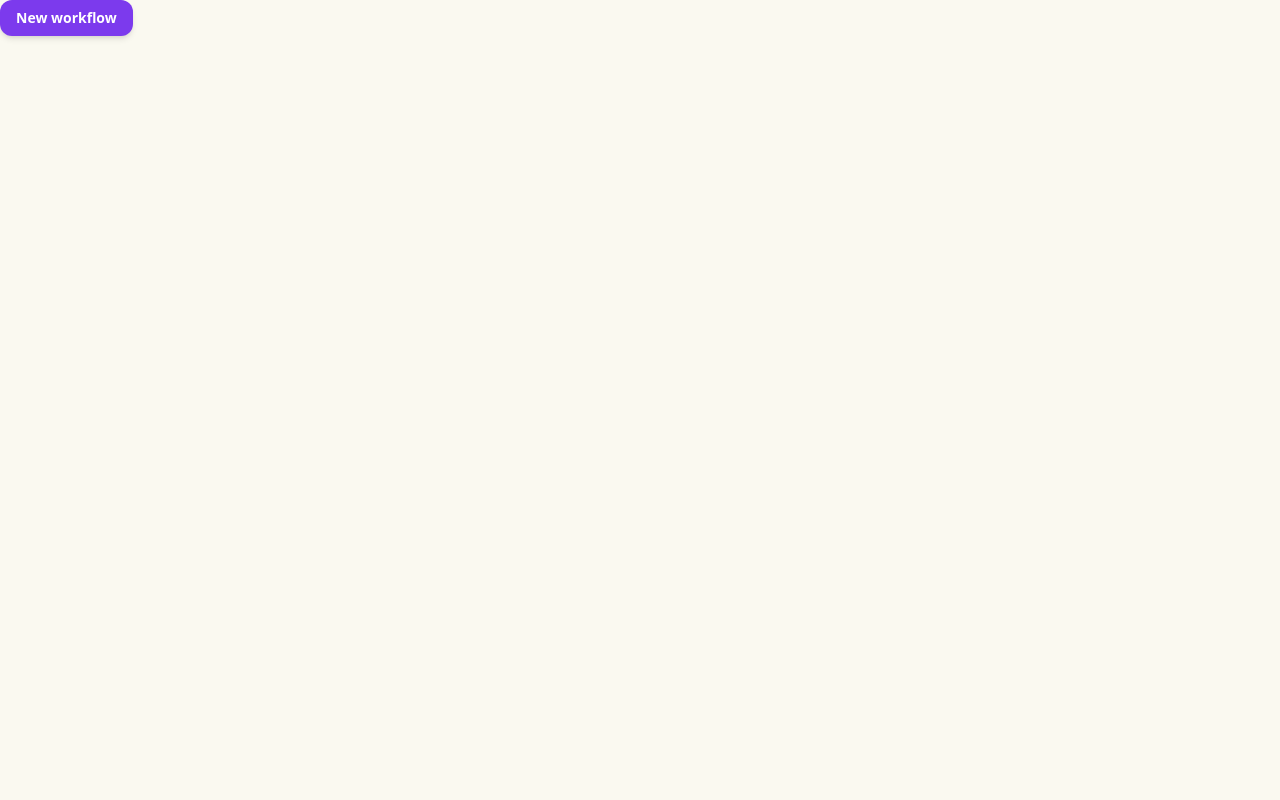
Scenario: CRM creation forms › submits typed data and closes after a successful API write
The width and height of the screenshot is (1280, 800).
Click the button "New workflow" at [66, 18], box [0, 0, 133, 36]
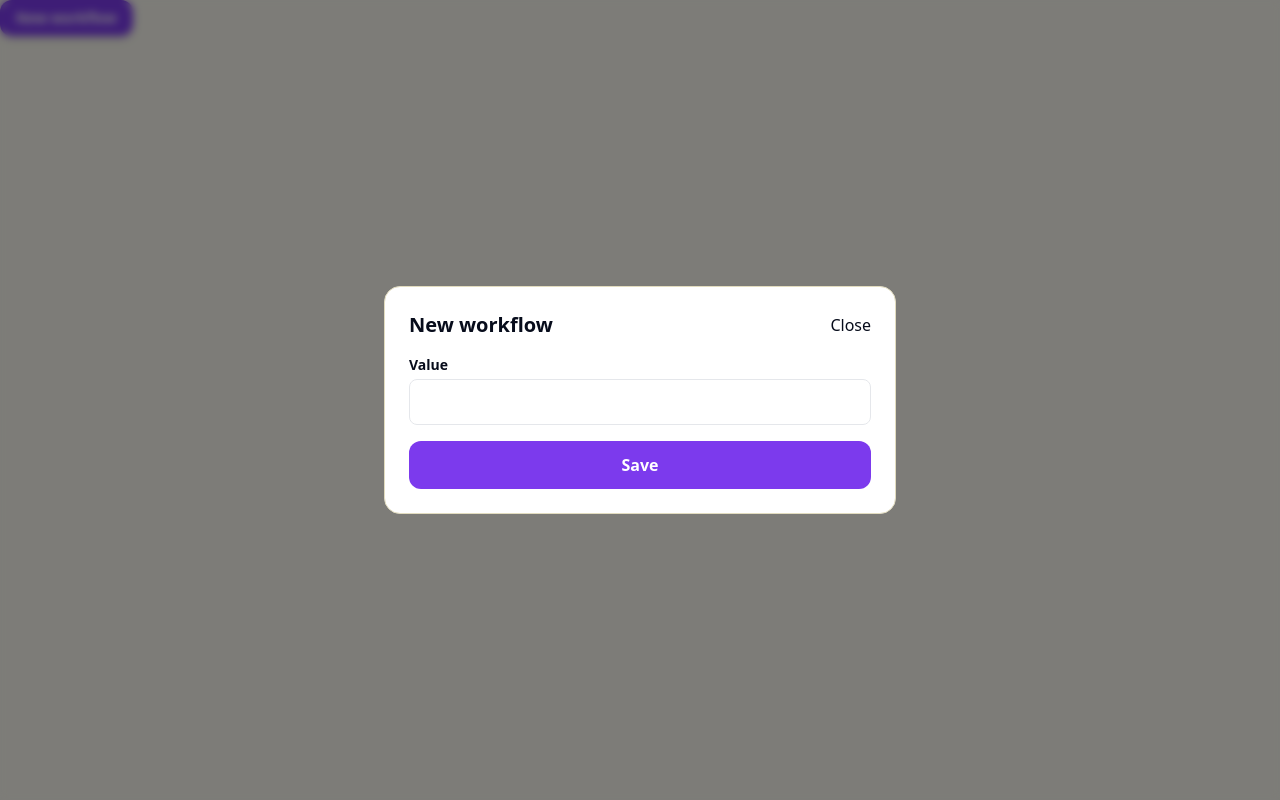
Type "1200" into the number field labelled "Value" at [640, 402], box [409, 379, 871, 425]
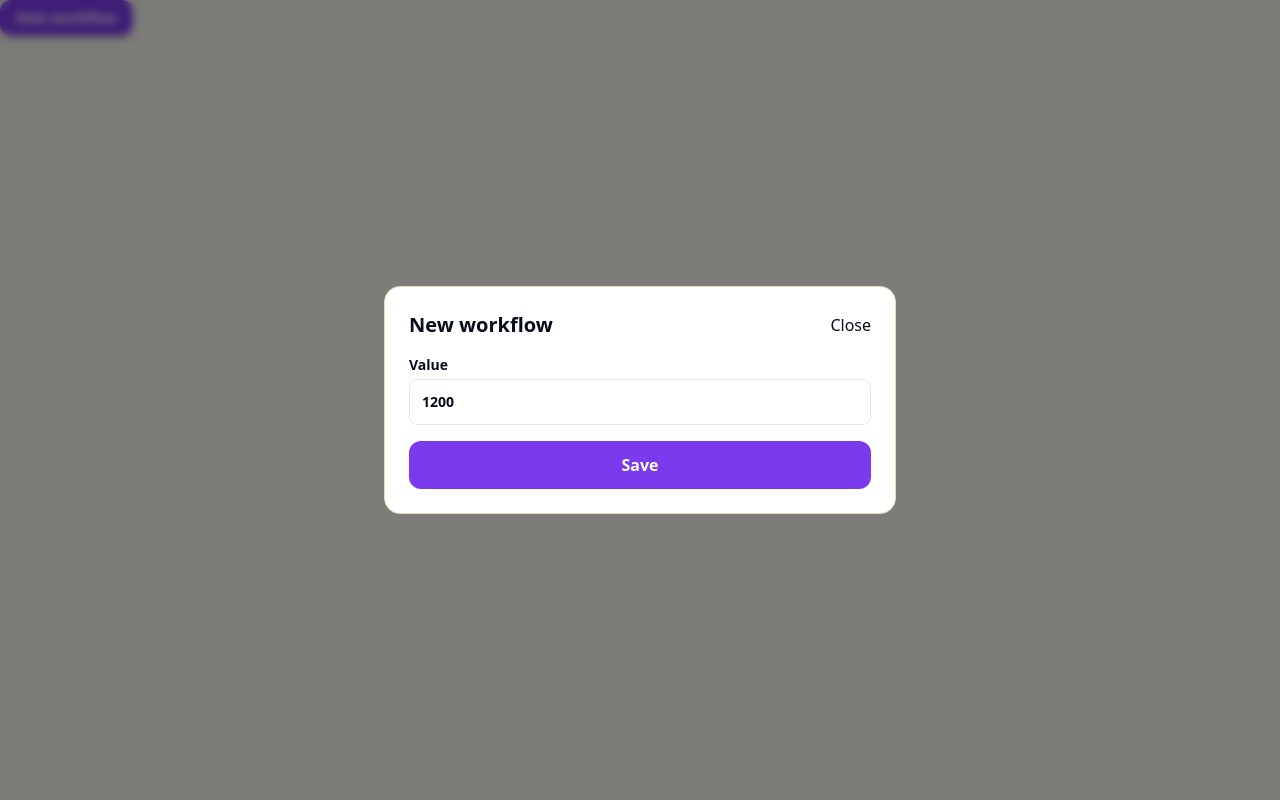
Submit the form, box [384, 286, 896, 514]
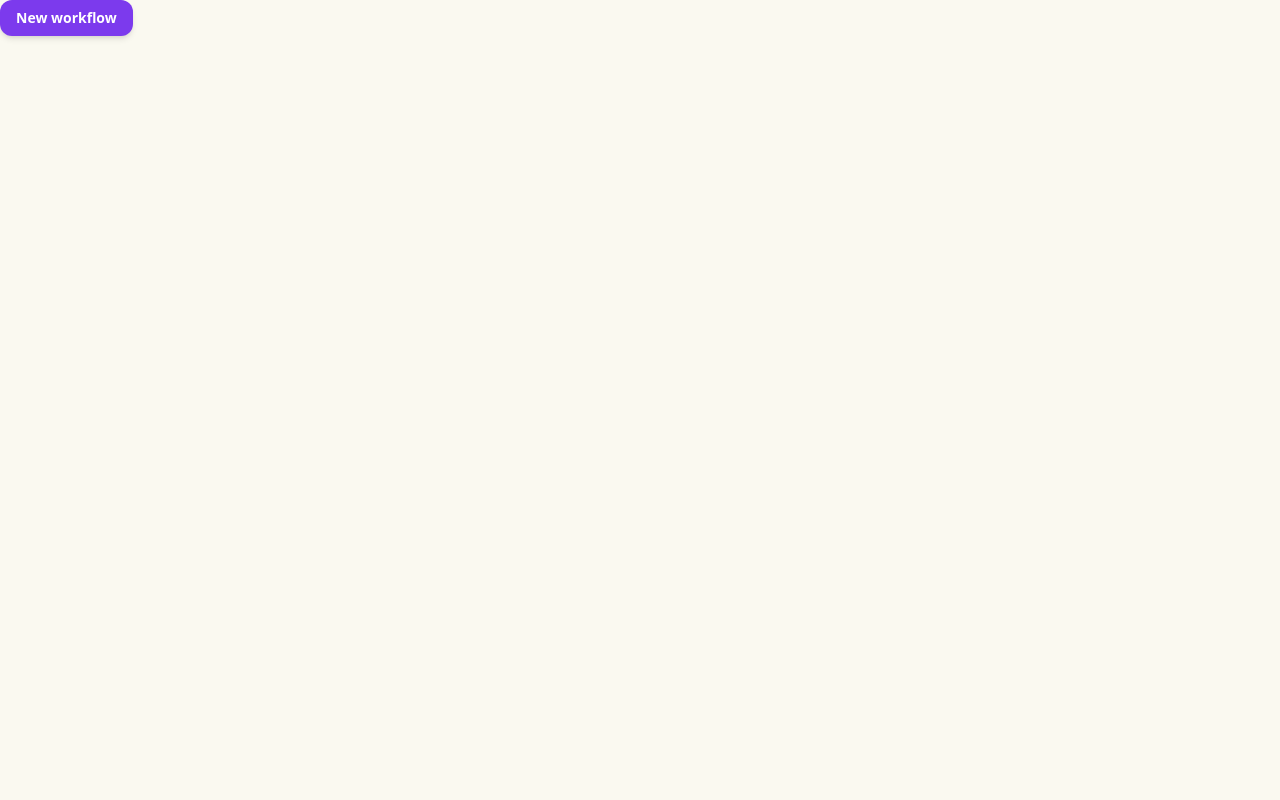
Expected: the form is gone
